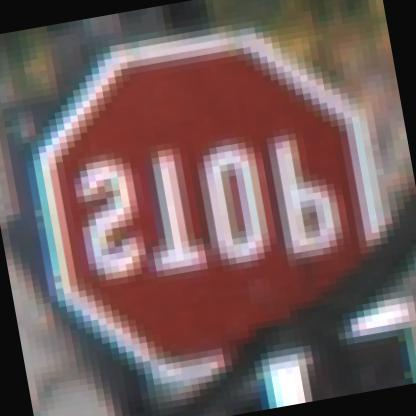stop: (5, 6, 406, 412)
